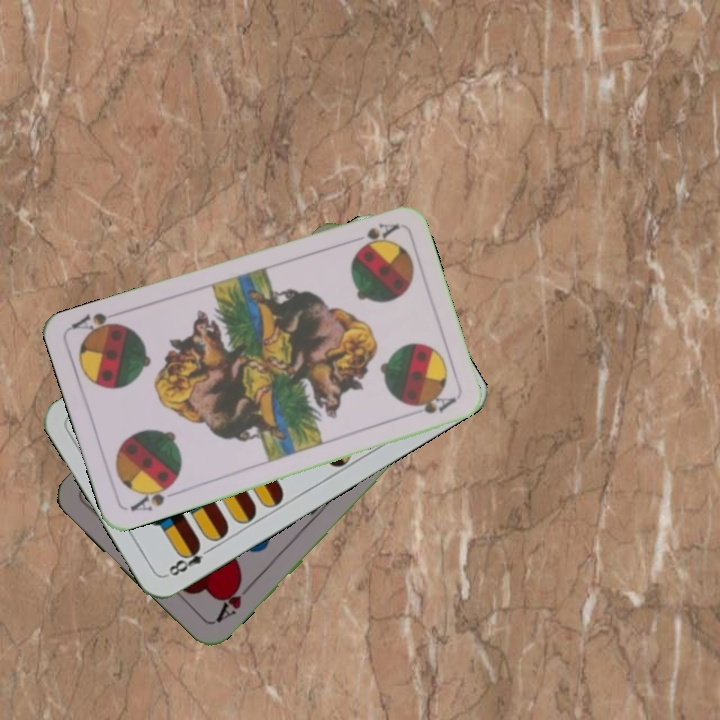E8: (164, 539, 216, 579)
HA: (211, 575, 255, 626)
SA: (126, 478, 178, 514), (354, 219, 402, 252)
